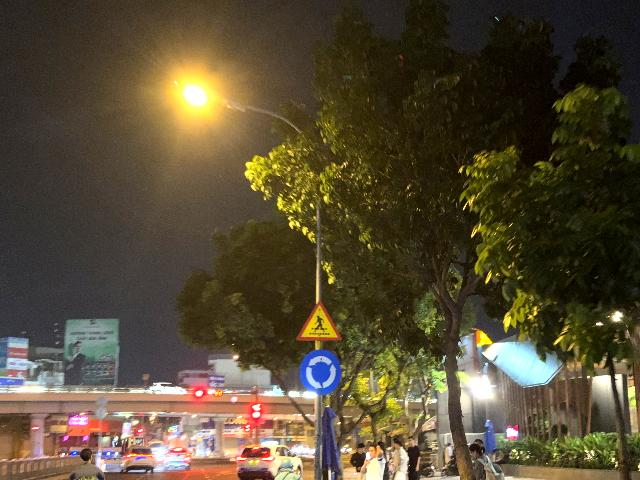duong-nguoi-di-bo-cat-ngang: (295, 300, 342, 340)
noi-giao-nhau-chay-theo-vong-xuyen: (299, 350, 343, 395)
